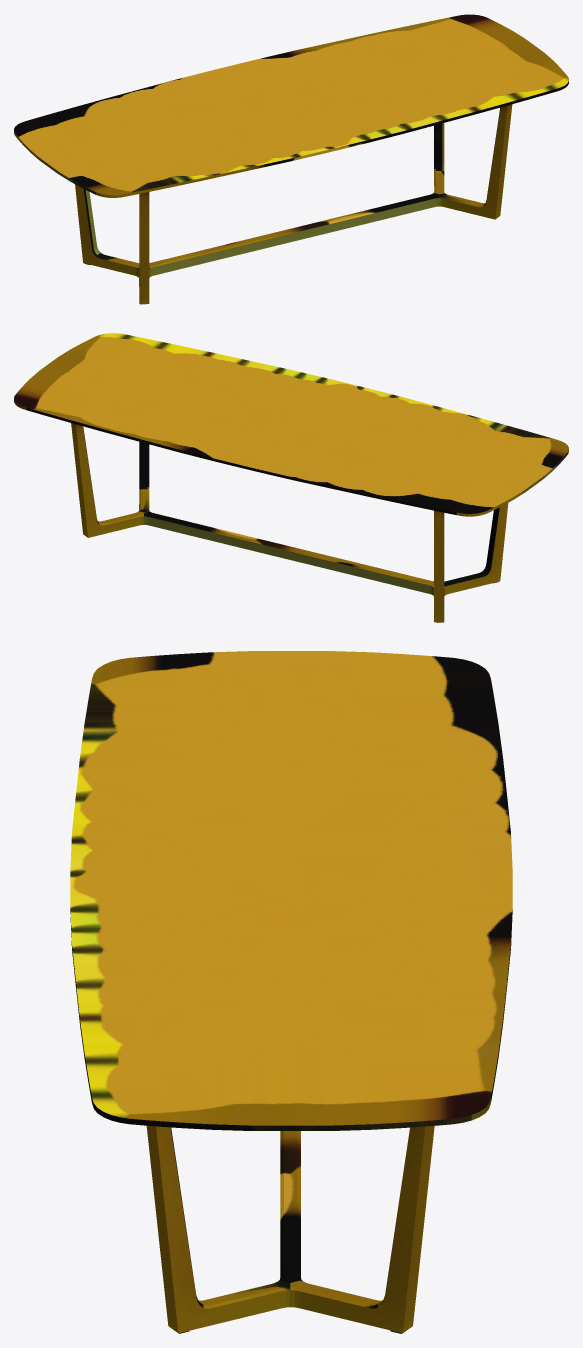
The model's file is edited_mesh.glb.
3 renders of one model, top to bottom at view 1: azimuth 30°, elevation 25°; view 2: azimuth 150°, elevation 25°; view 3: azimuth 270°, elevation 25°, orthographic. The views are drawn at different scales.
Parts seen in each view (by area): view 1: normalized_model.obj; view 2: normalized_model.obj; view 3: normalized_model.obj.
Part boxes in pixels (left/top/right/bottom): normalized_model.obj: left=14, top=14, right=568, bottom=304; normalized_model.obj: left=14, top=333, right=568, bottom=622; normalized_model.obj: left=70, top=651, right=512, bottom=1333.
Size of the model in its own units: 2 by 0.5321 by 0.7873.
1 material, 1 textured.
